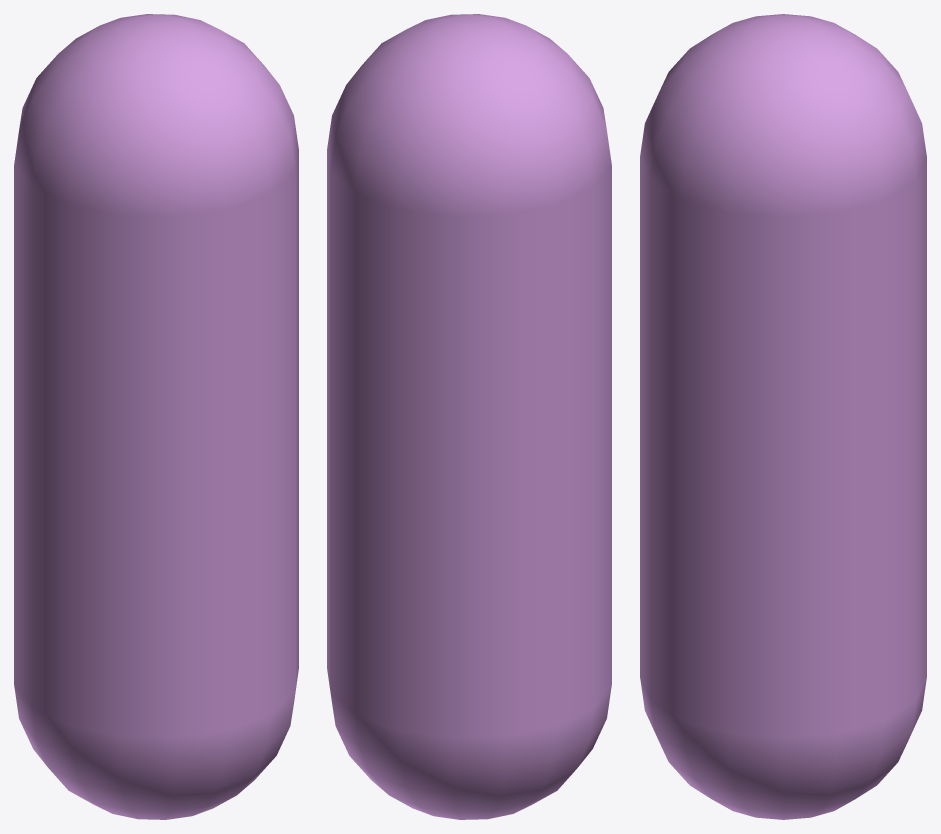
The picture shows the model from 3 angles, left to right: view 1: azimuth 30°, elevation 25°; view 2: azimuth 150°, elevation 25°; view 3: azimuth 270°, elevation 25°; orthographic projection.
Visible parts, largest first — view 1: box3d_capsule; view 2: box3d_capsule; view 3: box3d_capsule.
Part boxes in pixels (x1,y1,x2,y2): box3d_capsule: (14, 14, 298, 819); box3d_capsule: (327, 14, 611, 819); box3d_capsule: (640, 14, 926, 819).
Size of the model in its own units: 1 by 3 by 1.
